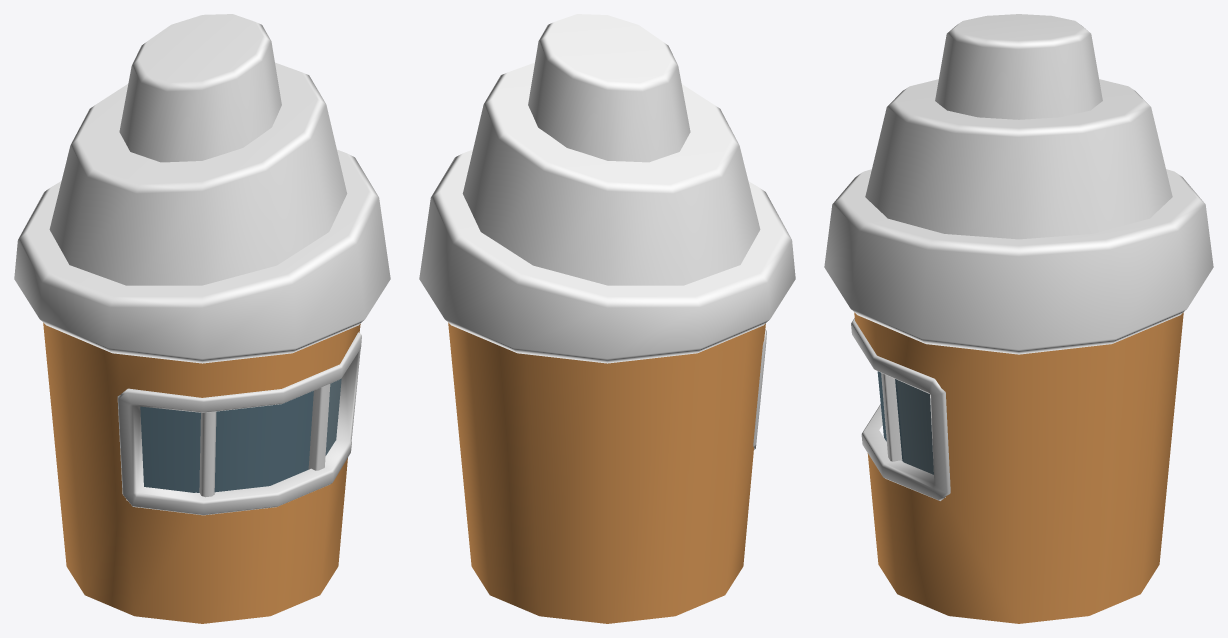
File: stall_003.gltf
The picture shows the model from 3 angles, left to right: view 1: azimuth 30°, elevation 25°; view 2: azimuth 150°, elevation 25°; view 3: azimuth 270°, elevation 25°; orthographic projection. The views are drawn at different scales.
Parts seen in each view (by area): view 1: stall_003; view 2: stall_003; view 3: stall_003.
Part boxes in pixels (bbox=[...]): stall_003: bbox=[14, 14, 390, 623]; stall_003: bbox=[419, 14, 795, 623]; stall_003: bbox=[824, 14, 1213, 623].
Size of the model in its own units: 2.92 by 4.55 by 2.92.
Materials: 1 (1 with a texture image).
